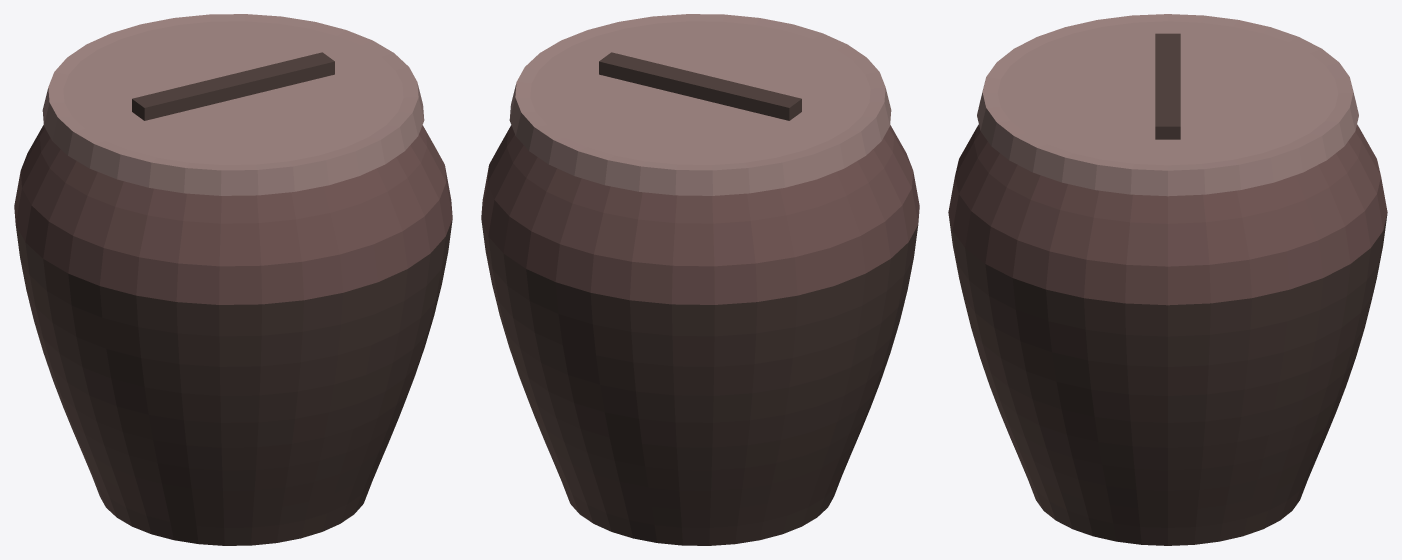
Rendered from Basket.fbx.
The picture shows the model from 3 angles, left to right: view 1: azimuth 30°, elevation 25°; view 2: azimuth 150°, elevation 25°; view 3: azimuth 270°, elevation 25°; orthographic projection.
Visible parts, largest first — view 1: Cylinder; view 2: Cylinder; view 3: Cylinder.
Boxes of the visible parts, <box> form: Cylinder: <box>14,14,452,545</box>; Cylinder: <box>481,14,919,545</box>; Cylinder: <box>948,14,1387,545</box>.
Bounding box in the file's own units: 131 × 135 × 131.
